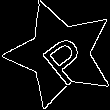P_NW: (29, 23, 92, 85)
